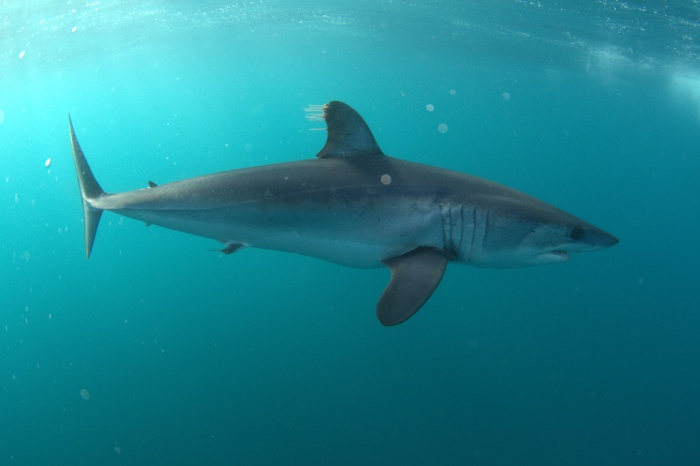Mako: (39, 95, 642, 332)
